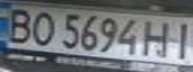4: (115, 16, 145, 56)
5: (57, 10, 84, 49)
6: (78, 12, 103, 52)
9: (96, 15, 121, 54)
B: (0, 5, 39, 44)
H: (139, 17, 175, 59)
I: (166, 19, 193, 60)
O: (24, 8, 60, 47)
